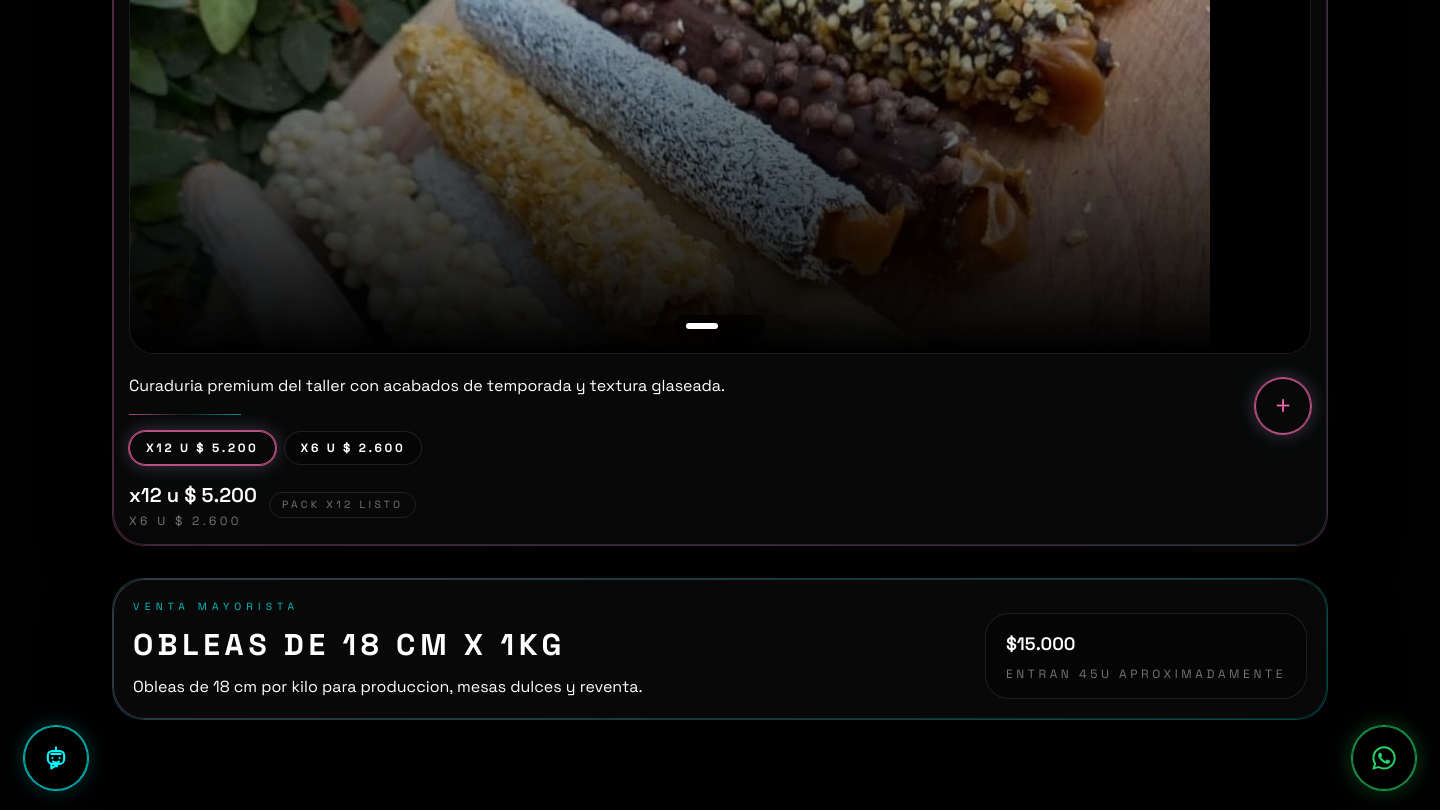
Test: ImmersiveStore › lets the user edit quantities inside the cart modal
The width and height of the screenshot is (1440, 810).
(page scrolled)
Click the button named "Agregar Neon Signature Box al carrito".
click(1283, 406)  # box [1255, 378, 1311, 434]
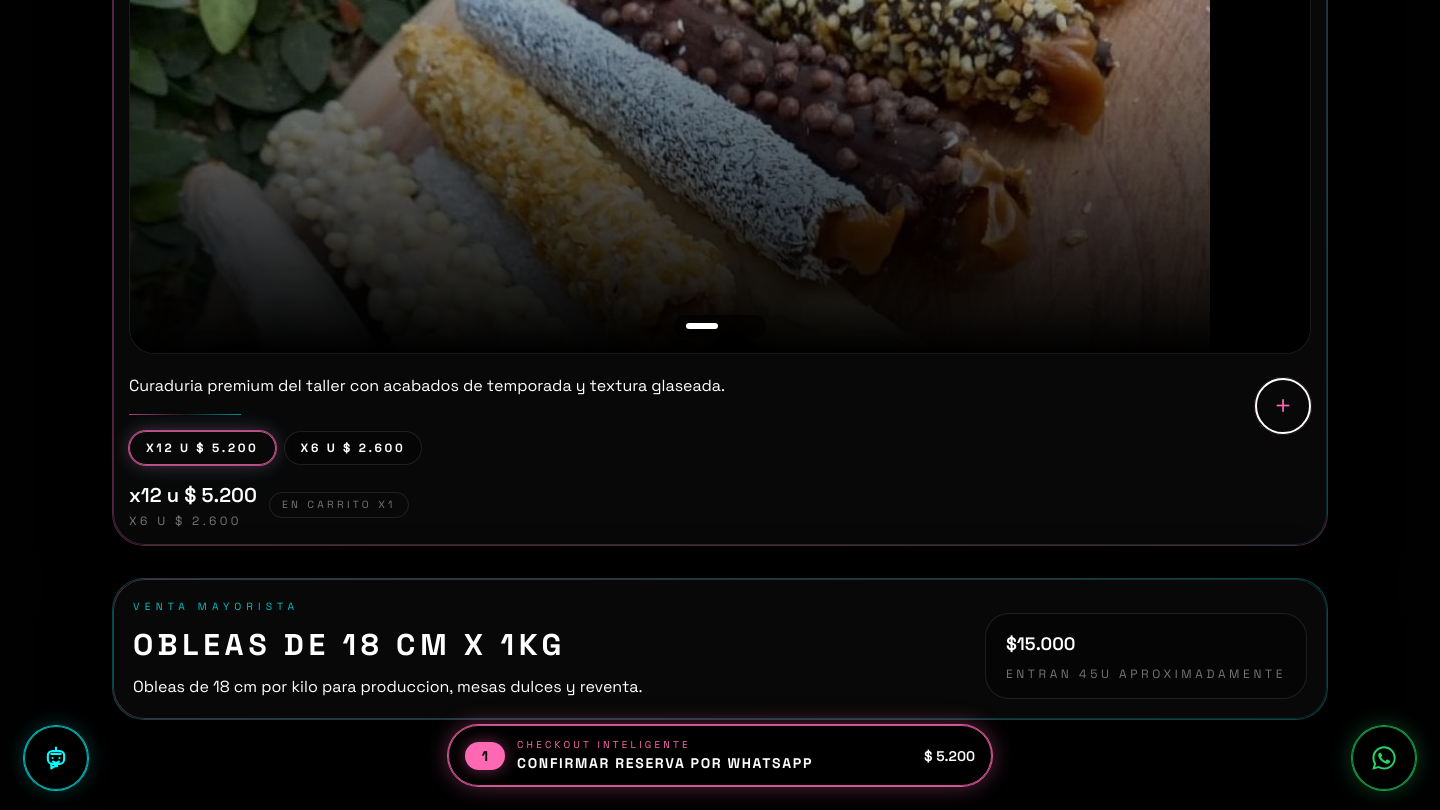
Click the button with aria-label "Abrir modal de reserva".
click(720, 756)  # box [448, 725, 992, 786]
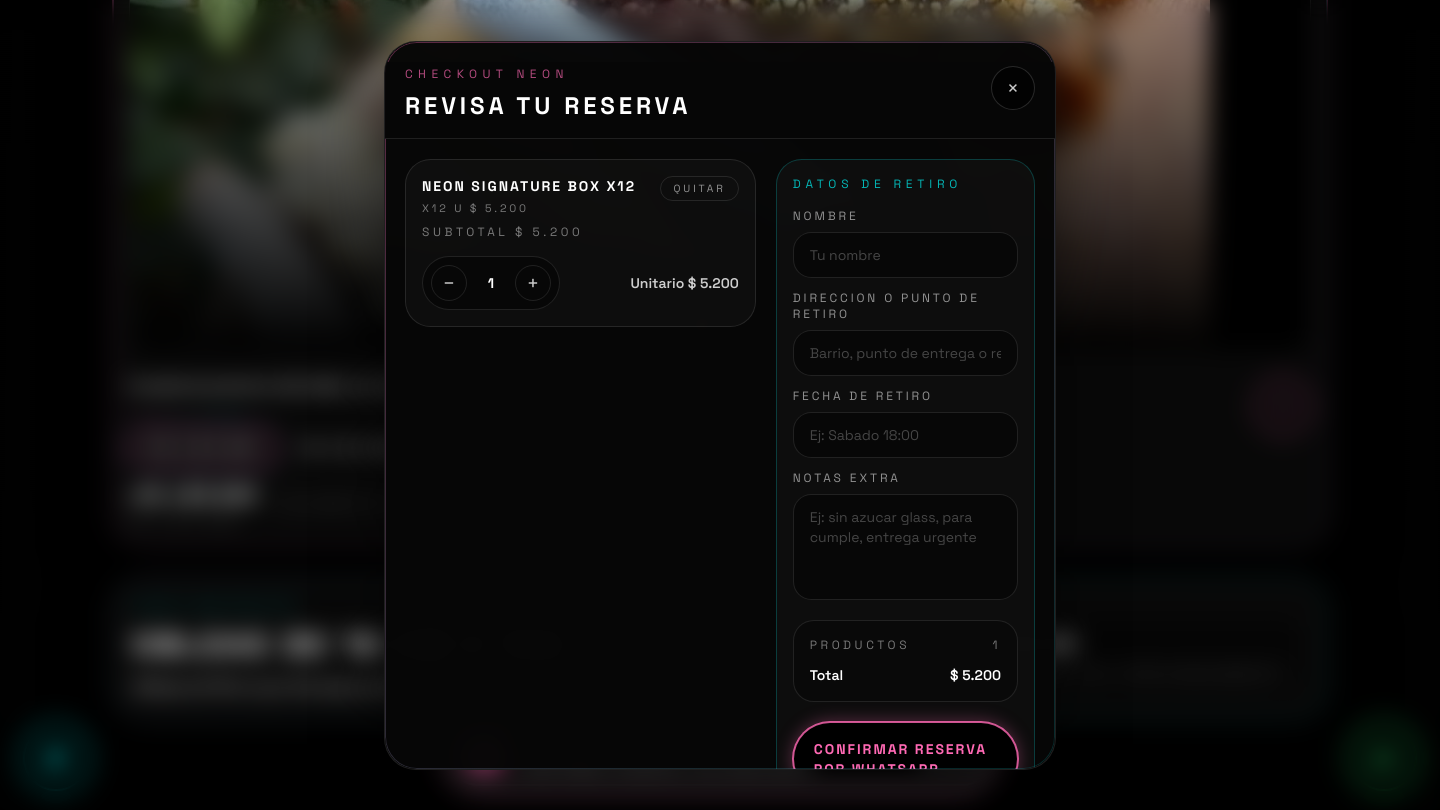
Click the button named "Sumar cantidad de Neon Signature Box x12".
click(533, 283)  # box [515, 265, 551, 301]
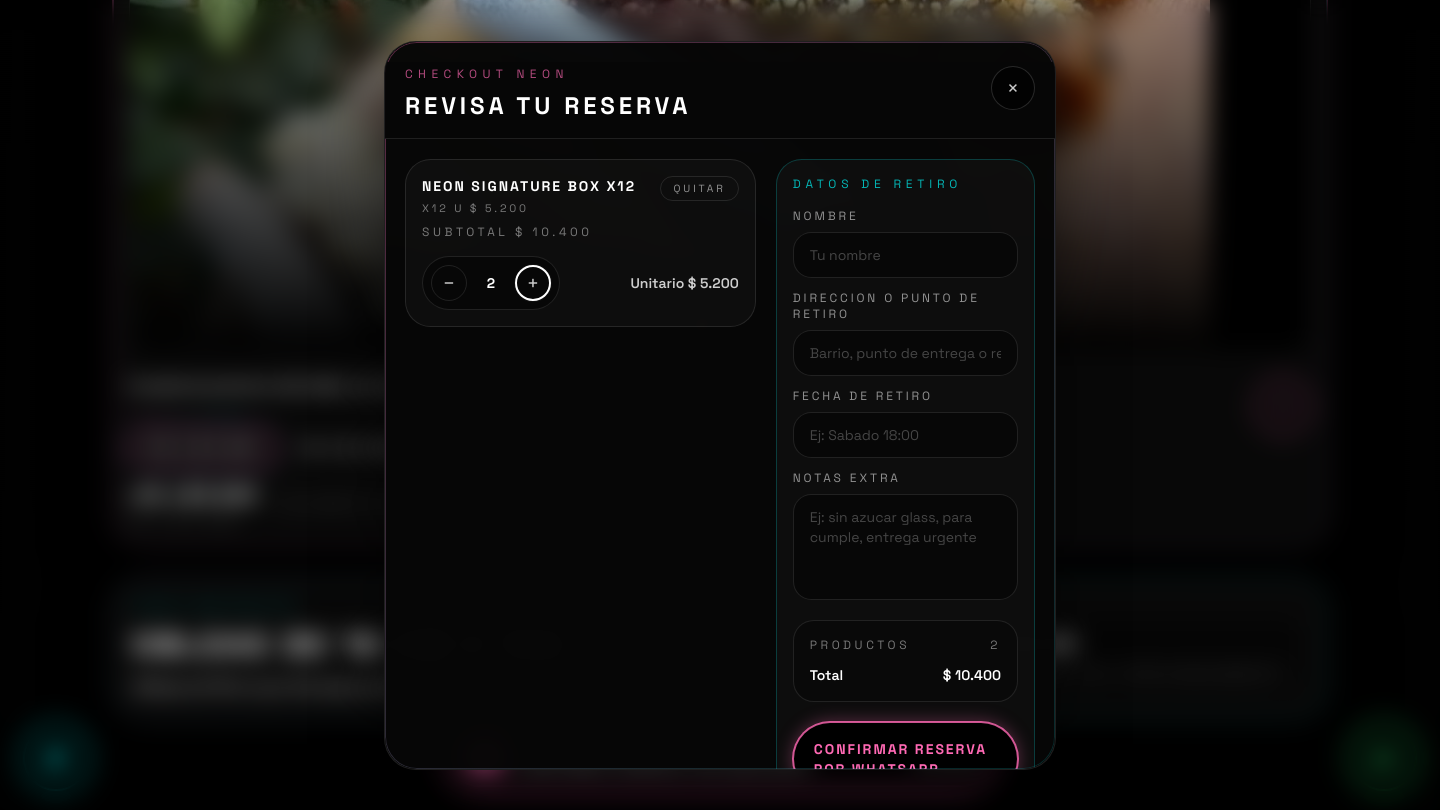
Click the button named "Restar cantidad de Neon Signature Box x12".
click(449, 283)  # box [431, 265, 467, 301]
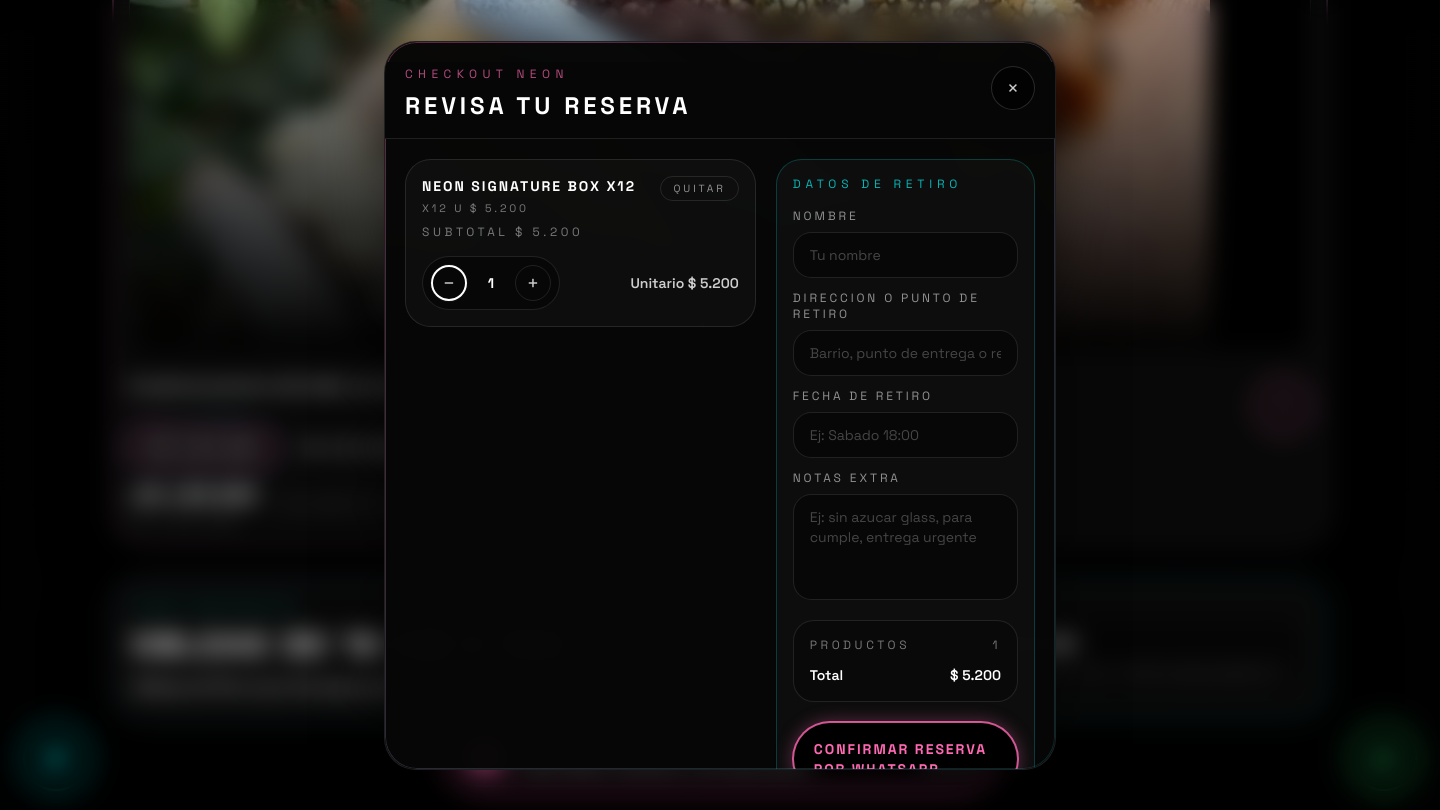
Click the button with aria-label "Eliminar Neon Signature Box x12 del carrito".
click(700, 188)  # box [660, 176, 739, 201]
(page scrolled)
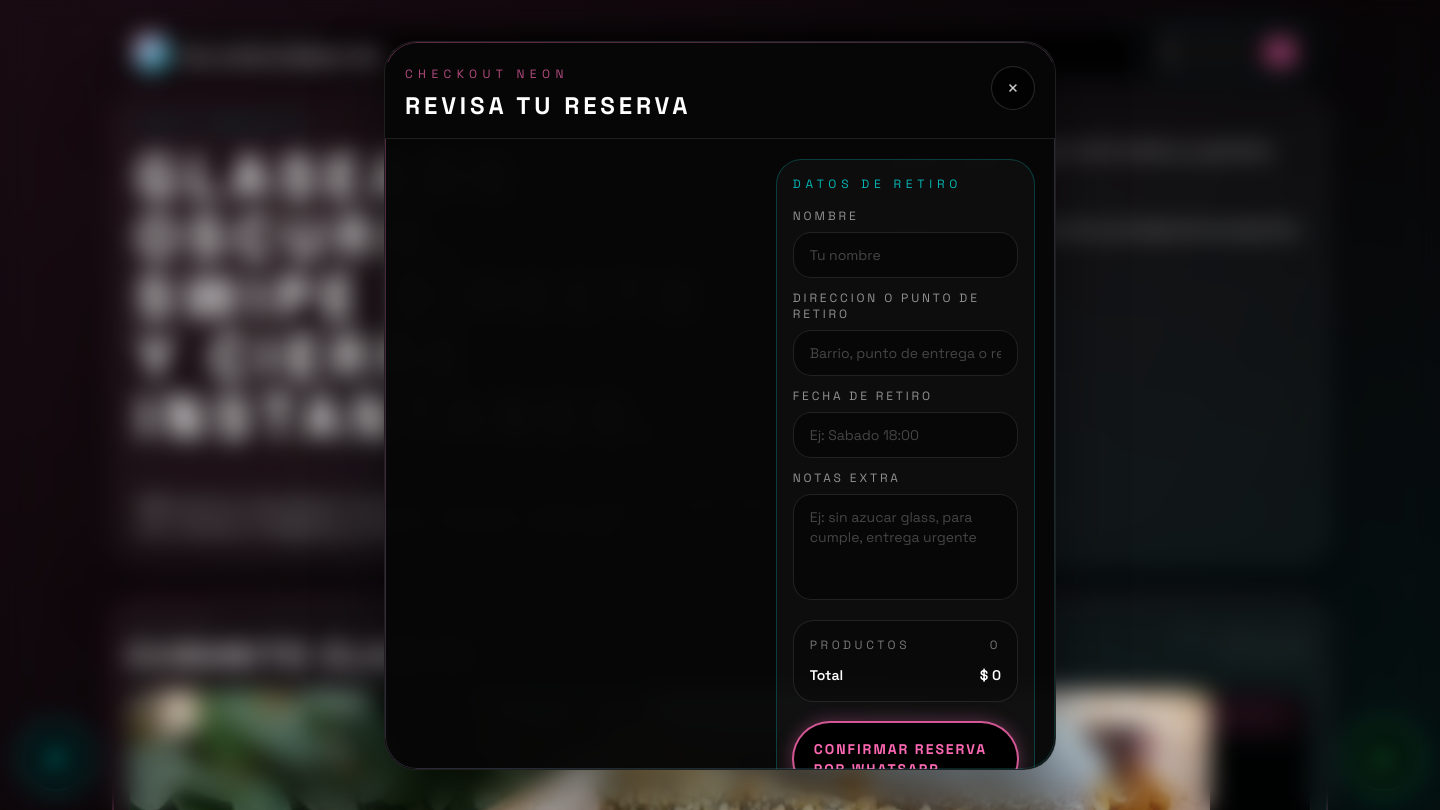
Expected: the button with aria-label "Abrir carrito" shows "0", [1148, 35, 1307, 69]
